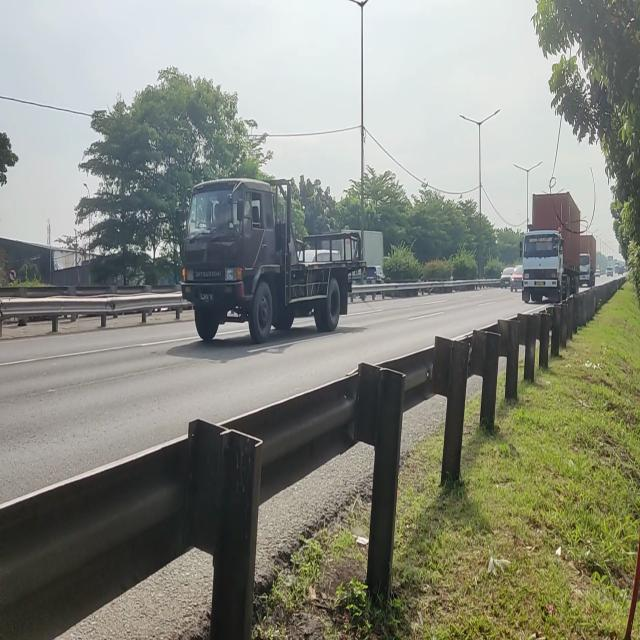Golongan II: (179, 169, 365, 349)
